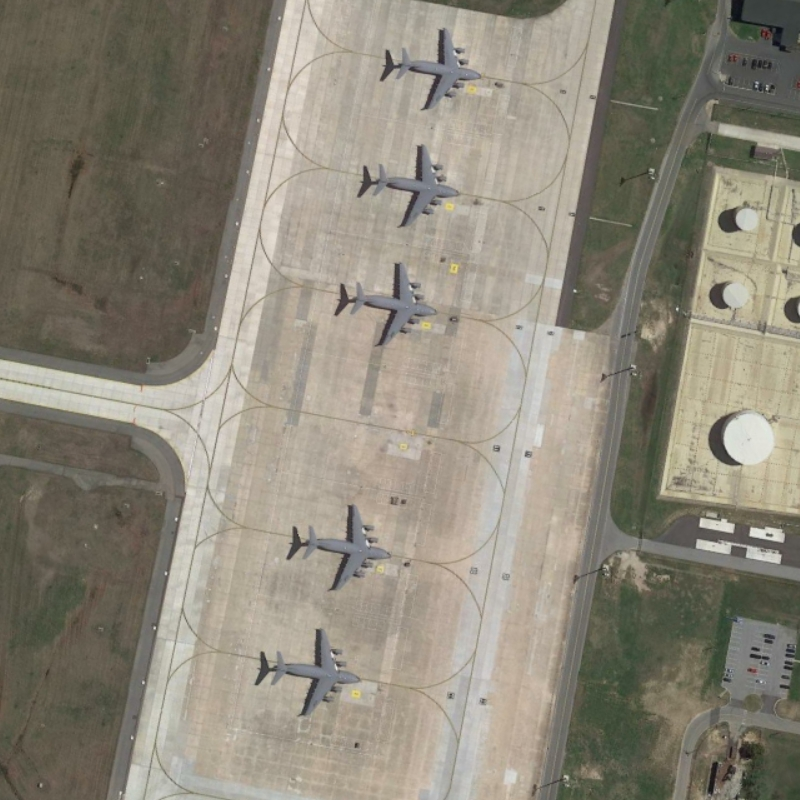A3: (339, 255, 442, 355), (269, 622, 368, 724), (299, 494, 395, 598), (387, 20, 486, 115), (365, 139, 463, 228)
